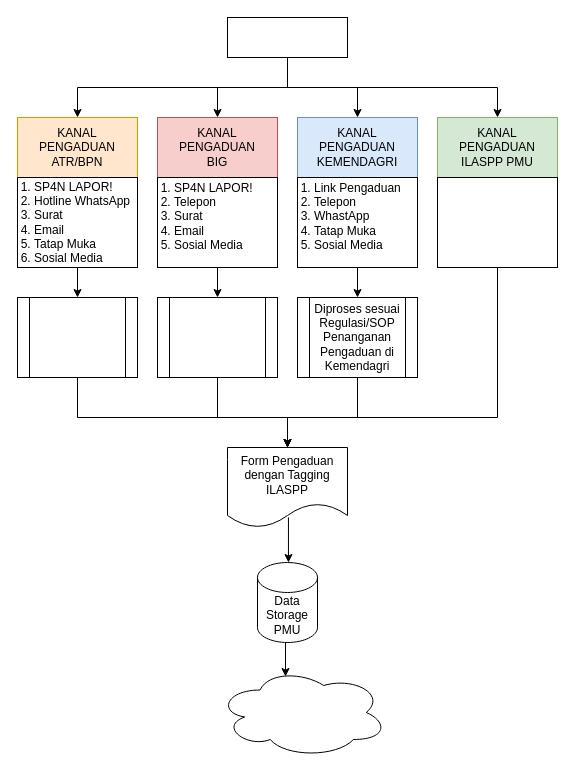
Some shapes in this 575 by 775 pixel diagram are drawn without their labels. The centre of each missing label's shape, as x and y in pixels:
Dashboard Monitoring FGRM: (302,712)
Diproses sesuai Regulasi/SOP Penanganan Pengaduan di ATR/BPN: (77,337)
Diproses sesuai Regulasi/SOP Penanganan Pengaduan di BIG: (217,337)
Orang/Instansi: (287,37)
Sosial Media: (497,222)
